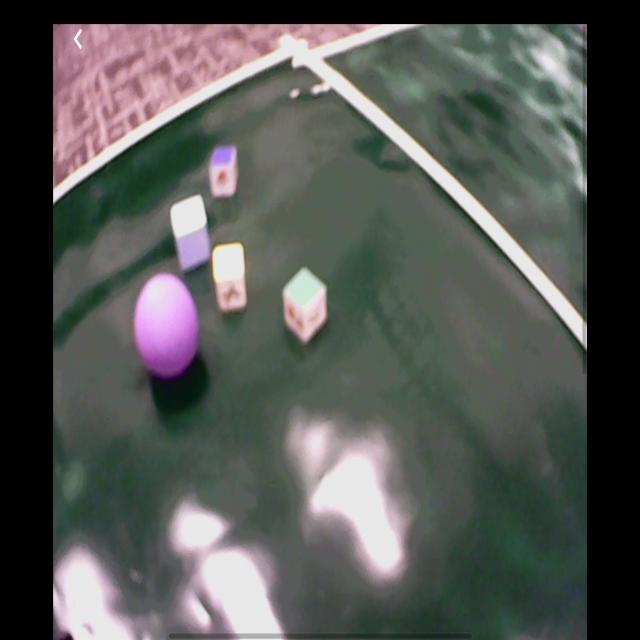ball: (135, 273, 201, 381)
